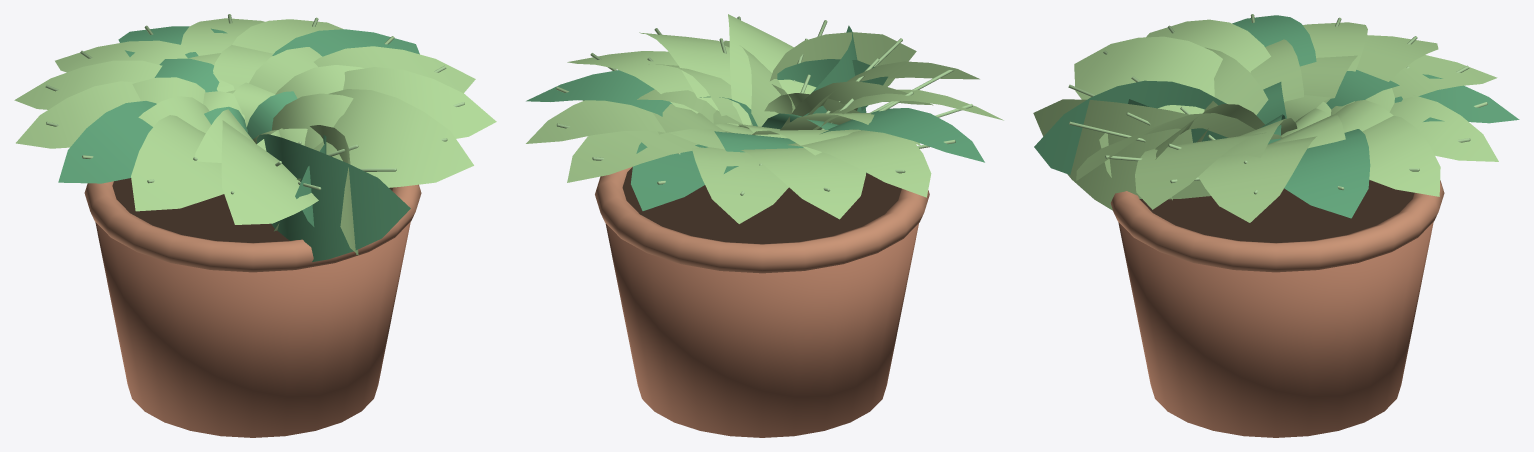
The model's file is echeveria.glb.
3 renders of one model, left to right at view 1: azimuth 30°, elevation 25°; view 2: azimuth 150°, elevation 25°; view 3: azimuth 270°, elevation 25°, orthographic.
Parts seen in each view (by area): view 1: pot_static, leaf_g760_echeveria_2_11, pot_rim_static, leaf_g736_echeveria_2_10, leaf_g664_echeveria_2_7, leaf_g688_echeveria_2_8, leaf_g640_echeveria_2_6, leaf_g784_echeveria_2_12, soil_static, leaf_g616_echeveria_2_5, leaf_g592_echeveria_2_4, leaf_g808_echeveria_2_13 (+18 smaller); view 2: pot_static, pot_rim_static, soil_static, leaf_g592_echeveria_2_4, leaf_g568_echeveria_2_3, leaf_g616_echeveria_2_5, leaf_g520_echeveria_2_1, leaf_g496_echeveria_2_0, leaf_g760_echeveria_2_11, leaf_g640_echeveria_2_6, leaf_g544_echeveria_2_2, leaf_g712_echeveria_2_9 (+18 smaller); view 3: pot_static, pot_rim_static, soil_static, leaf_g712_echeveria_2_9, leaf_g688_echeveria_2_8, leaf_g808_echeveria_2_13, leaf_g832_echeveria_2_14, leaf_g496_echeveria_2_0, leaf_g736_echeveria_2_10, leaf_g784_echeveria_2_12, leaf_g520_echeveria_2_1, leaf_g664_echeveria_2_7 (+17 smaller).
Part boxes in pixels (<box>): pot_static: <box>95,222,410,437</box>; leaf_g760_echeveria_2_11: <box>313,89,473,187</box>; pot_rim_static: <box>84,181,421,272</box>; leaf_g736_echeveria_2_10: <box>257,134,410,261</box>; leaf_g664_echeveria_2_7: <box>131,115,223,211</box>; leaf_g688_echeveria_2_8: <box>221,120,318,224</box>; leaf_g640_echeveria_2_6: <box>58,101,156,183</box>; leaf_g784_echeveria_2_12: <box>343,67,496,138</box>; soil_static: <box>112,178,392,242</box>; leaf_g616_echeveria_2_5: <box>16,81,140,148</box>; leaf_g592_echeveria_2_4: <box>14,60,162,109</box>; leaf_g808_echeveria_2_13: <box>314,46,475,93</box>; pot_static: <box>605,223,918,437</box>; pot_rim_static: <box>595,167,929,273</box>; soil_static: <box>622,167,901,244</box>; leaf_g592_echeveria_2_4: <box>741,148,865,219</box>; leaf_g568_echeveria_2_3: <box>692,147,788,223</box>; leaf_g616_echeveria_2_5: <box>787,130,931,197</box>; leaf_g520_echeveria_2_1: <box>567,130,698,182</box>; leaf_g496_echeveria_2_0: <box>526,100,679,143</box>; leaf_g760_echeveria_2_11: <box>728,14,816,125</box>; leaf_g640_echeveria_2_6: <box>821,108,984,162</box>; leaf_g544_echeveria_2_2: <box>631,142,738,210</box>; leaf_g712_echeveria_2_9: <box>770,32,916,86</box>; pot_static: <box>1118,222,1433,437</box>; pot_rim_static: <box>1110,180,1444,272</box>; soil_static: <box>1139,180,1414,242</box>; leaf_g712_echeveria_2_9: <box>1033,99,1210,210</box>; leaf_g688_echeveria_2_8: <box>1074,36,1222,114</box>; leaf_g808_echeveria_2_13: <box>1198,136,1316,222</box>; leaf_g832_echeveria_2_14: <box>1284,129,1370,218</box>; leaf_g496_echeveria_2_0: <box>1362,115,1440,196</box>; leaf_g736_echeveria_2_10: <box>1034,80,1226,174</box>; leaf_g784_echeveria_2_12: <box>1135,132,1282,209</box>; leaf_g520_echeveria_2_1: <box>1389,95,1498,161</box>; leaf_g664_echeveria_2_7: <box>1146,19,1270,72</box>.
Bounding box in the file's own units: 0.5605 × 0.3931 × 0.5629.
